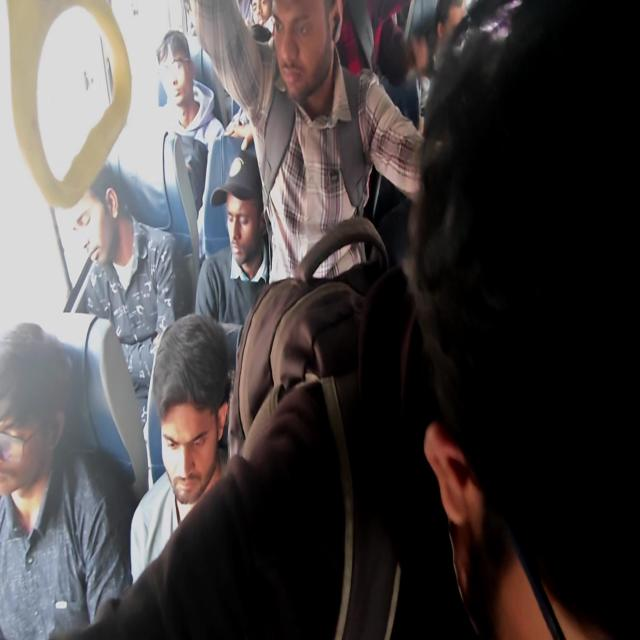person: (46, 1, 638, 638), (406, 0, 639, 638), (187, 0, 425, 286), (0, 321, 135, 638), (72, 161, 177, 488), (129, 312, 233, 584), (155, 28, 225, 256), (194, 150, 271, 326)
